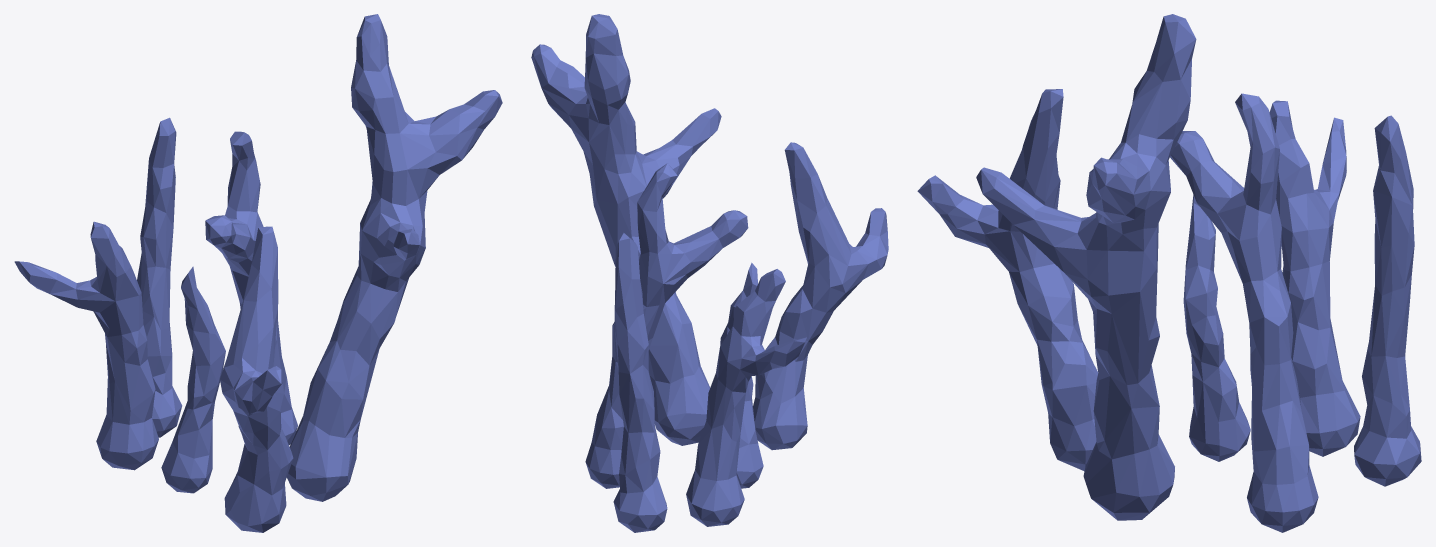
File: coral_3.glb
The picture shows the model from 3 angles, left to right: view 1: azimuth 30°, elevation 25°; view 2: azimuth 150°, elevation 25°; view 3: azimuth 270°, elevation 25°; orthographic projection. The views are drawn at different scales.
Parts seen in each view (by area): view 1: Coral.003; view 2: Coral.003; view 3: Coral.003.
Boxes of the visible parts, x1=… form: Coral.003: x1=14, y1=14, x2=502, y2=532; Coral.003: x1=531, y1=14, x2=888, y2=532; Coral.003: x1=917, y1=14, x2=1421, y2=532.
Size of the model in its own units: 35.65 by 39.69 by 33.18.
